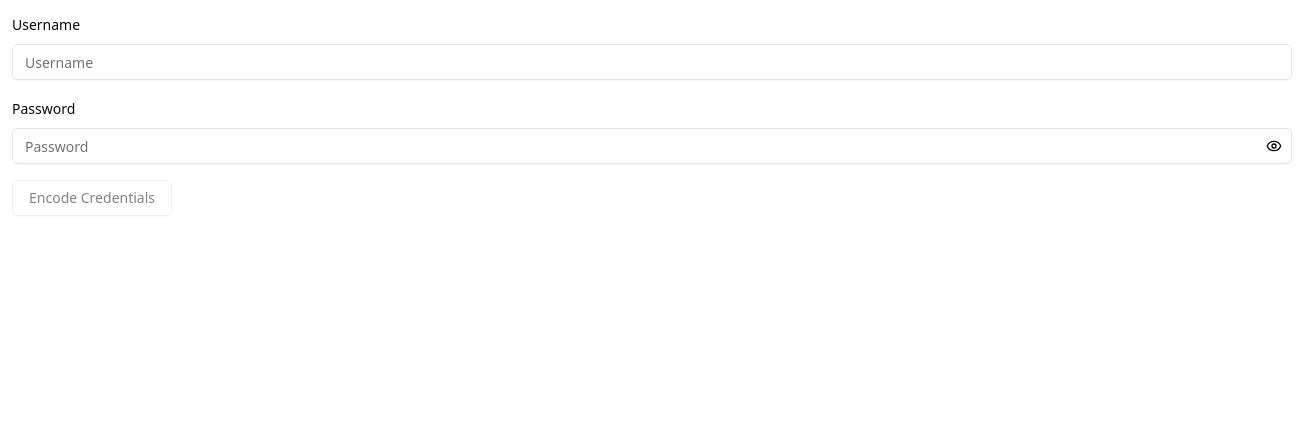
Test: BasicAuth › should enable Encode Credentials button when both fields have values
Type "user" into the field with placeholder "Username". click: (652, 62)
box: [12, 44, 1292, 80]
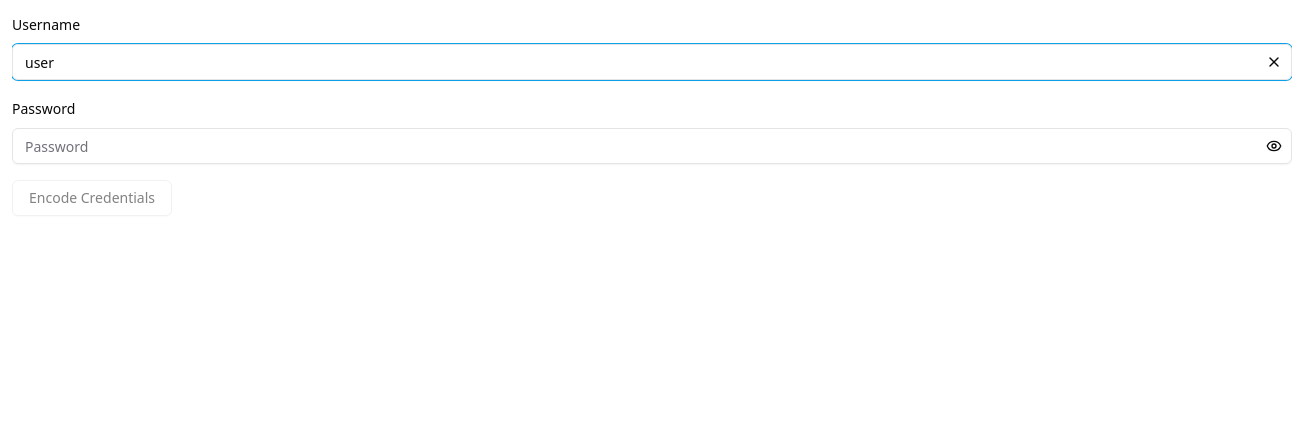
Type "pass" into the password field with placeholder "Password". click: (652, 146)
box: [12, 128, 1292, 164]
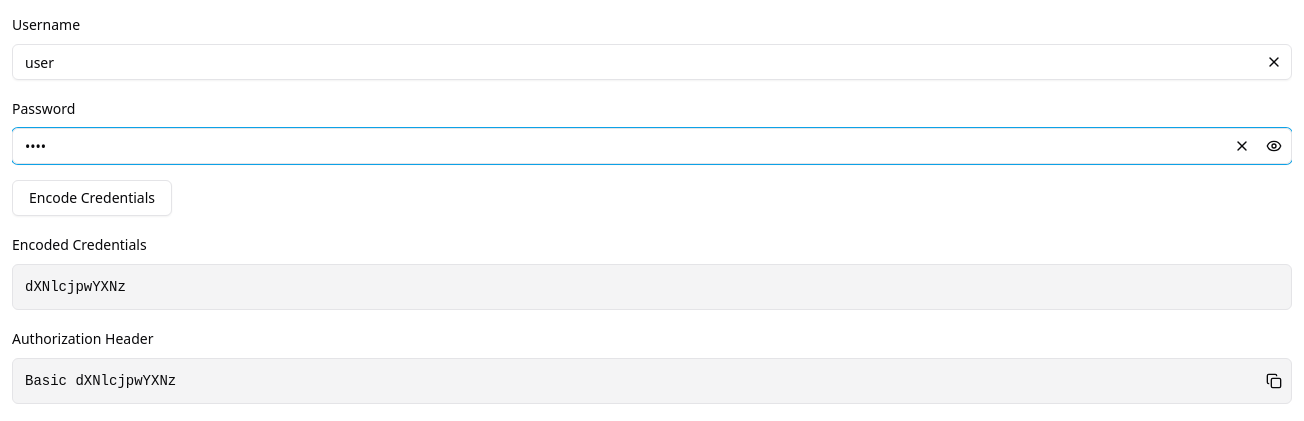
expect the button "Encode Credentials" is enabled: met, box [12, 180, 172, 216]
